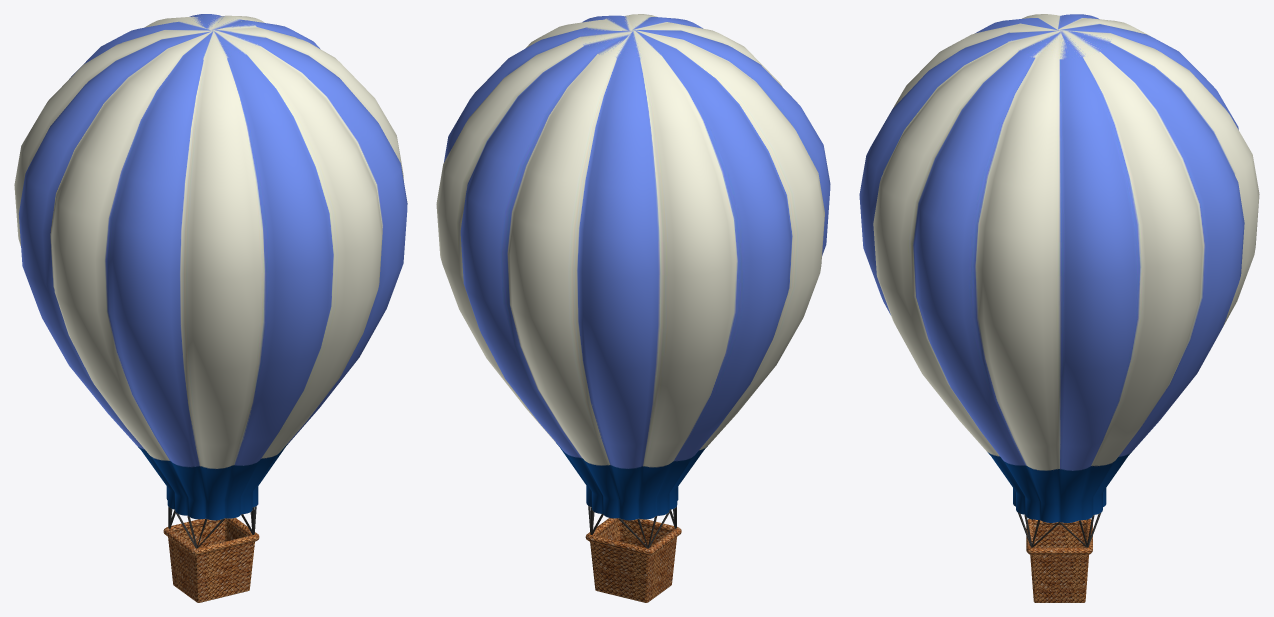
The model's file is balloon.glb.
The picture shows the model from 3 angles, left to right: view 1: azimuth 30°, elevation 25°; view 2: azimuth 150°, elevation 25°; view 3: azimuth 270°, elevation 25°; orthographic projection.
Visible parts, largest first — view 1: balloon, basket, basketRim, straps; view 2: balloon, basket, basketRim, straps; view 3: balloon, basket, basketRim, straps.
Boxes of the visible parts, <box> form: balloon: <box>14,14,407,520</box>; basket: <box>168,518,254,602</box>; basketRim: <box>163,518,259,555</box>; straps: <box>168,506,256,548</box>; balloon: <box>436,14,830,520</box>; basket: <box>590,520,676,602</box>; basketRim: <box>585,518,681,555</box>; straps: <box>588,506,676,548</box>; balloon: <box>859,14,1259,523</box>; basket: <box>1030,523,1088,602</box>; basketRim: <box>1026,519,1092,554</box>; straps: <box>1018,513,1100,547</box>.
Bounding box in the file's own units: 13.19 × 20.76 × 13.43.
Materials: 5 (3 with a texture image).
